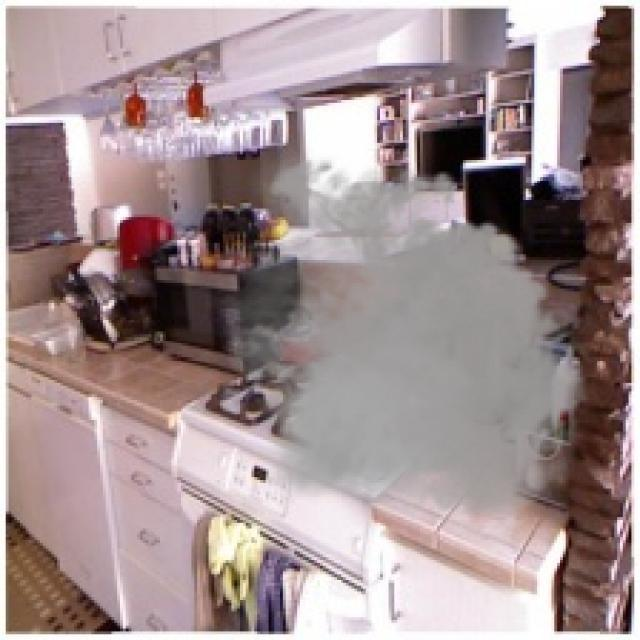Smoke: (205, 146, 600, 532)
